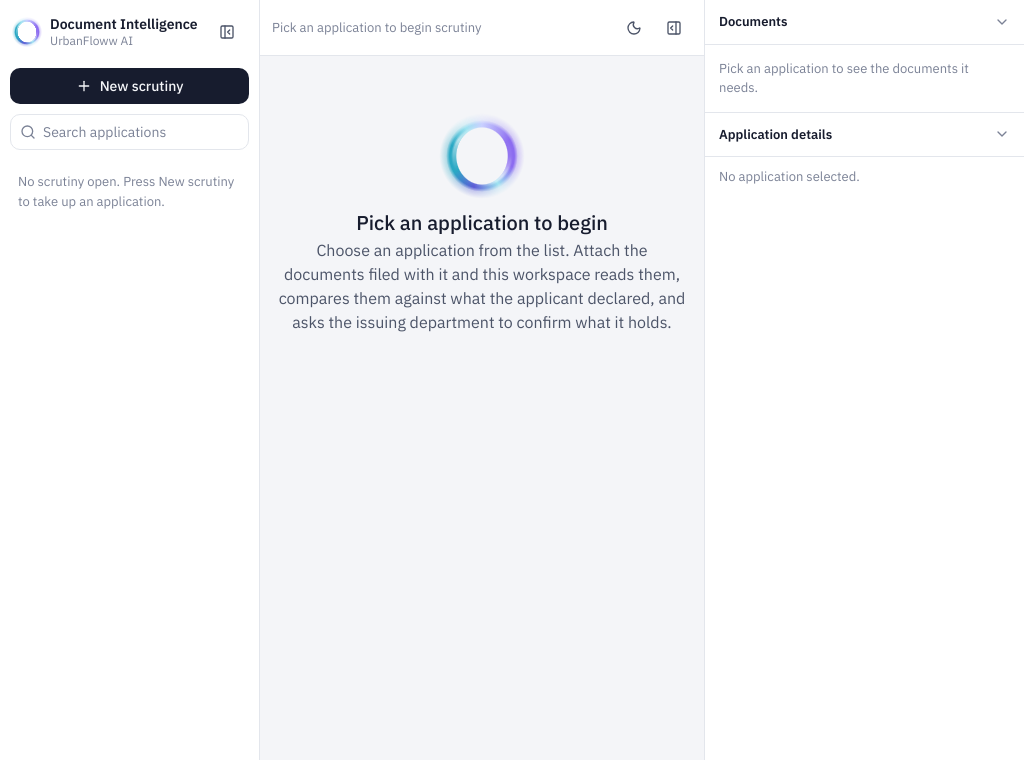
Test: the workspace shell › says so when a search matches nothing, rather than showing an empty rail
This screenshot has width=1024, height=760.
Click the button "New scrutiny".
click(130, 86)  # box [10,68,249,104]
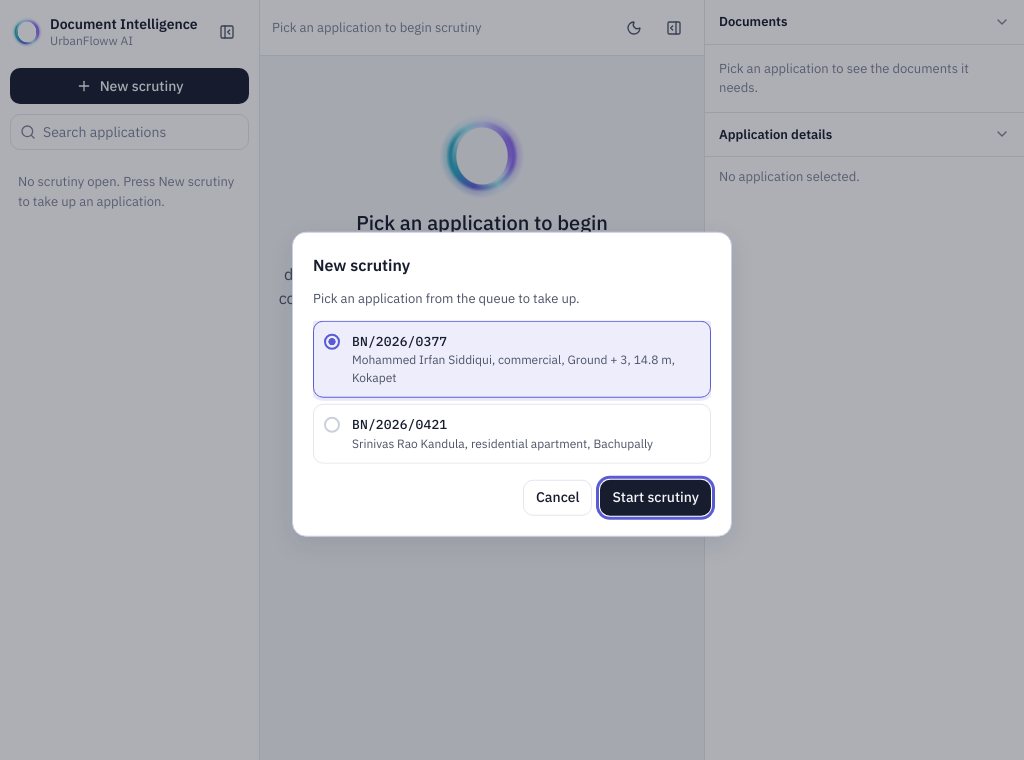
Click the text "BN/2026/0377".
click(400, 341)  # box [352,332,447,349]
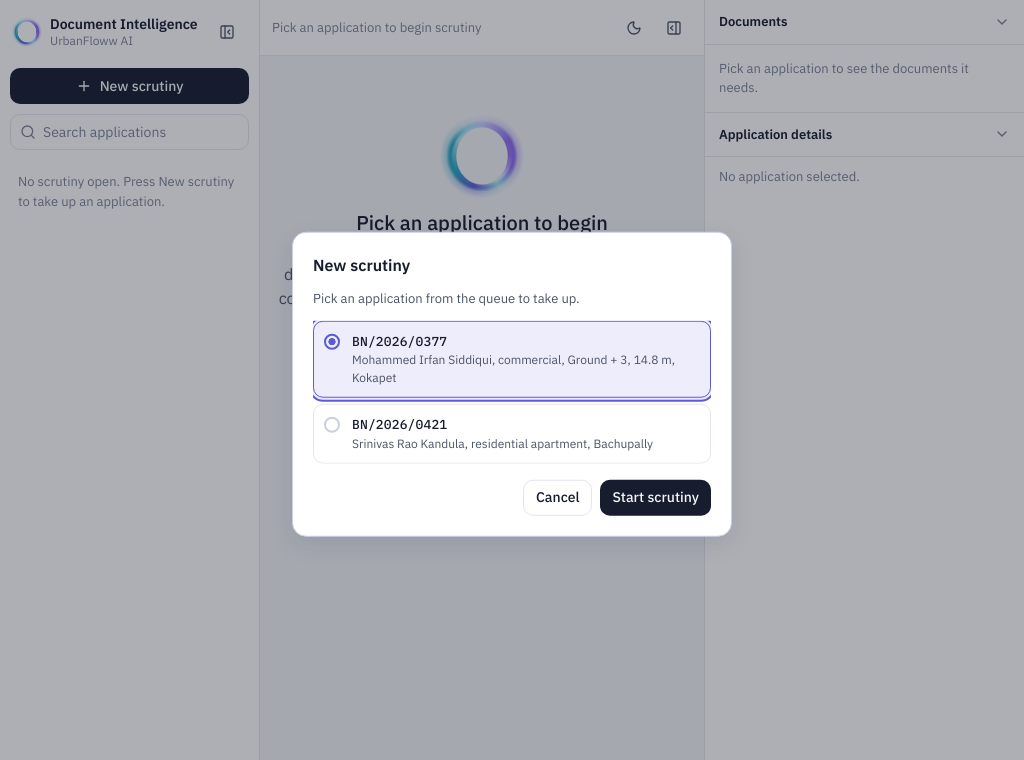
Click the button "Start scrutiny".
click(656, 497)  # box [600,479,711,515]
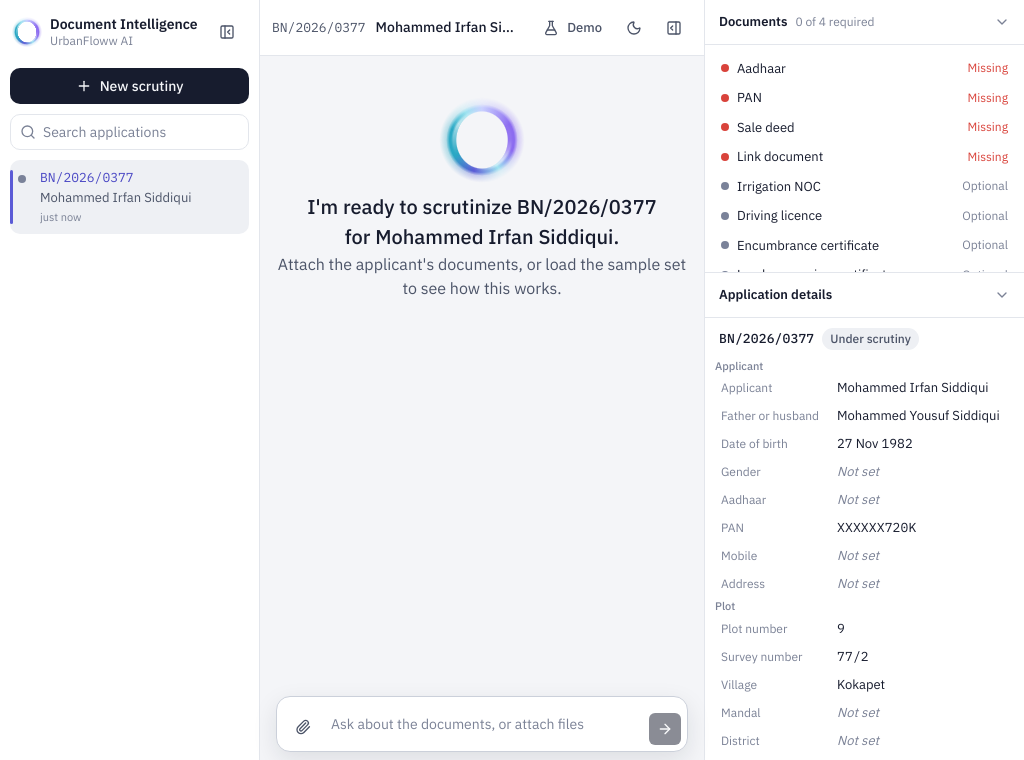
Type "nowhere" into the search field labelled "Search applications".
click(130, 132); type("nowhere")  # box [10,114,249,150]
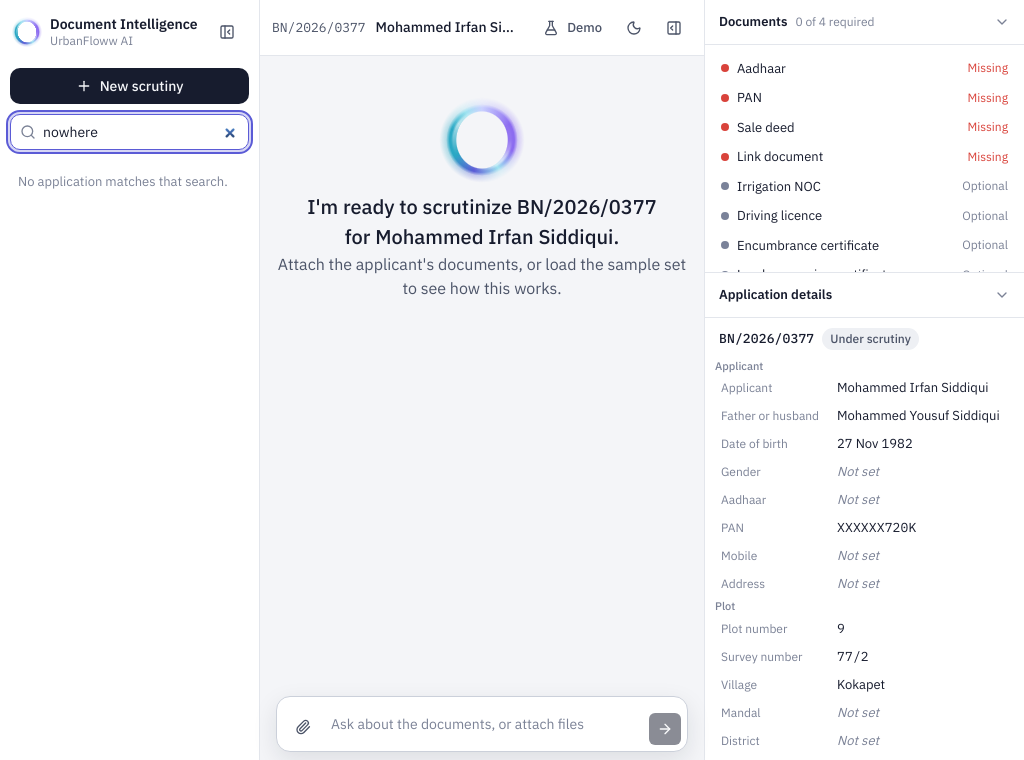
Result: the list item "No application matches that search." is shown at [18,173,228,190]
